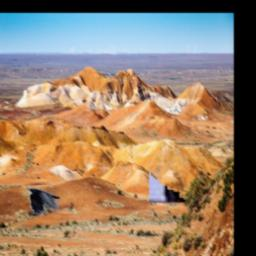Crow: (150, 35, 212, 204), (27, 189, 59, 215)
